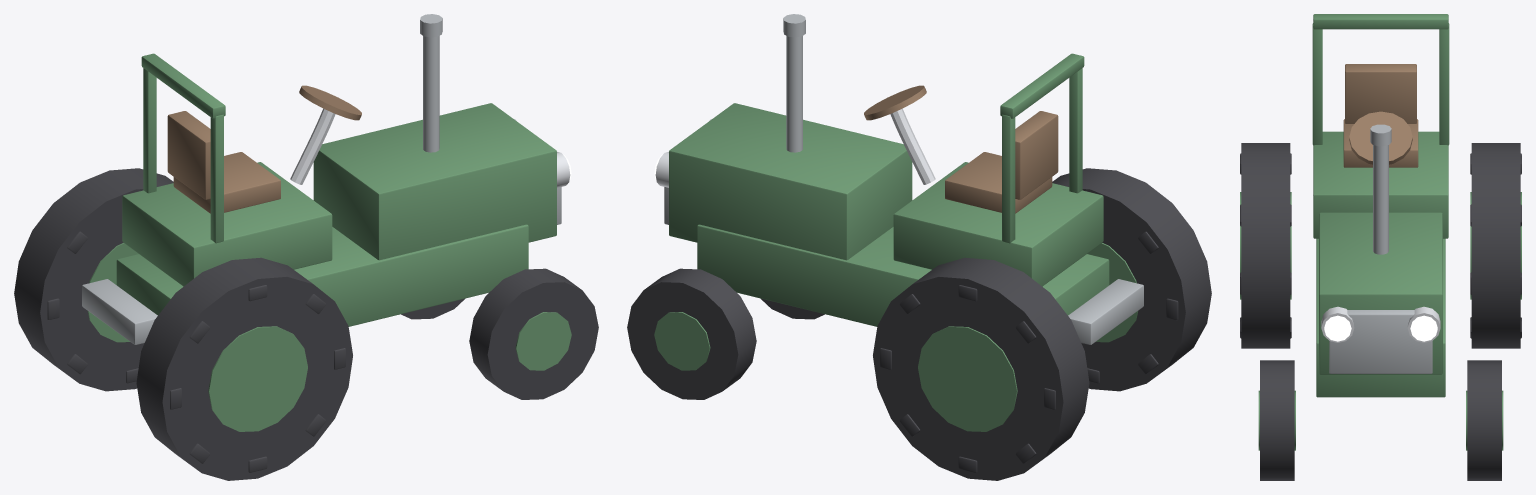
Rendered from th38_traktor.glb.
3 views of the same model, side by side, from view 1: azimuth 30°, elevation 25°; view 2: azimuth 150°, elevation 25°; view 3: azimuth 270°, elevation 25° (orthographic). The views are drawn at different scales.
Visible parts, largest first — view 1: Cube.001, Cylinder.007, Cylinder.011, Cube, Cube.007, Cylinder.009, Cylinder.008, Cube.009, Cube.008, Cube.029, Cylinder.010, Cylinder.005 (+6 smaller); view 2: Cube.001, Cylinder.011, Cylinder.007, Cube, Cube.007, Cylinder.013, Cylinder.012, Cube.009, Cube.008, Cube.029, Cylinder.014, Cylinder.005 (+6 smaller); view 3: Cube.001, Cylinder.007, Cylinder.011, Cube.007, Cube.002, Cylinder.009, Cylinder.013, Cube, Cube.009, Cube.012, Cylinder.004, Cylinder.005 (+8 smaller).
Boxes of the visible parts, box(x1,y1,x2,y2) form: Cube.001: box(313, 103, 556, 260); Cylinder.007: box(136, 257, 352, 480); Cylinder.011: box(14, 168, 173, 391); Cube: box(116, 224, 528, 326); Cube.007: box(122, 162, 332, 286); Cylinder.009: box(469, 268, 598, 399); Cylinder.008: box(208, 326, 307, 431); Cube.009: box(167, 111, 210, 199); Cube.008: box(173, 152, 280, 213); Cube.029: box(82, 279, 157, 344); Cylinder.010: box(515, 312, 571, 370); Cylinder.005: box(423, 36, 439, 152); Cube.001: box(669, 103, 912, 260); Cylinder.011: box(873, 257, 1089, 480); Cylinder.007: box(1052, 168, 1211, 391); Cube: box(697, 224, 1109, 326); Cube.007: box(893, 162, 1103, 286); Cylinder.013: box(627, 268, 756, 399); Cylinder.012: box(918, 326, 1017, 431); Cube.009: box(1015, 111, 1058, 199); Cube.008: box(945, 152, 1052, 213); Cube.029: box(1068, 279, 1143, 344); Cylinder.014: box(654, 312, 710, 370); Cylinder.005: box(786, 36, 802, 152); Cube.001: box(1319, 212, 1442, 374); Cylinder.007: box(1241, 143, 1290, 348); Cylinder.011: box(1471, 143, 1520, 348); Cube.007: box(1313, 131, 1448, 238); Cube.002: box(1329, 310, 1432, 373); Cylinder.009: box(1260, 360, 1294, 480); Cylinder.013: box(1467, 360, 1501, 480); Cube: box(1316, 238, 1445, 397); Cube.009: box(1345, 64, 1416, 123); Cube.012: box(1313, 14, 1448, 29); Cylinder.004: box(1349, 111, 1412, 164); Cylinder.005: box(1373, 145, 1388, 254).
Size of the model in its own units: 3.42 by 2.49 by 1.96.
